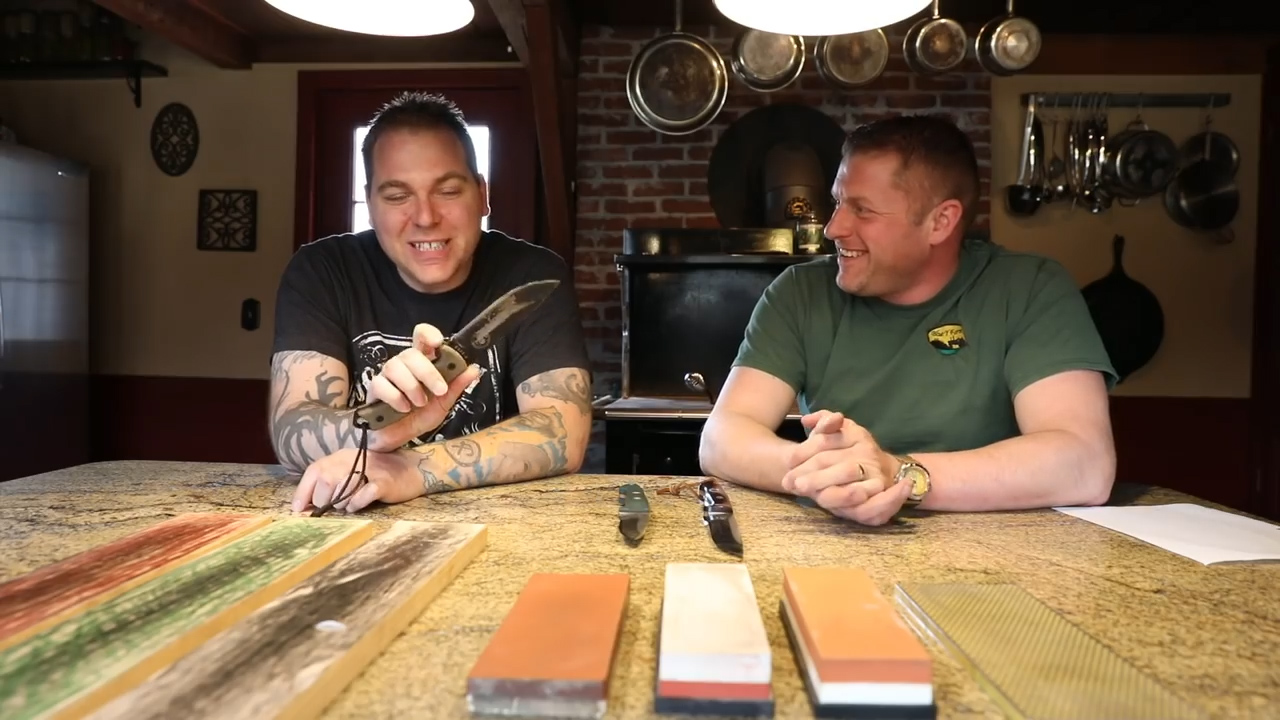knife: (398, 266, 575, 403)
